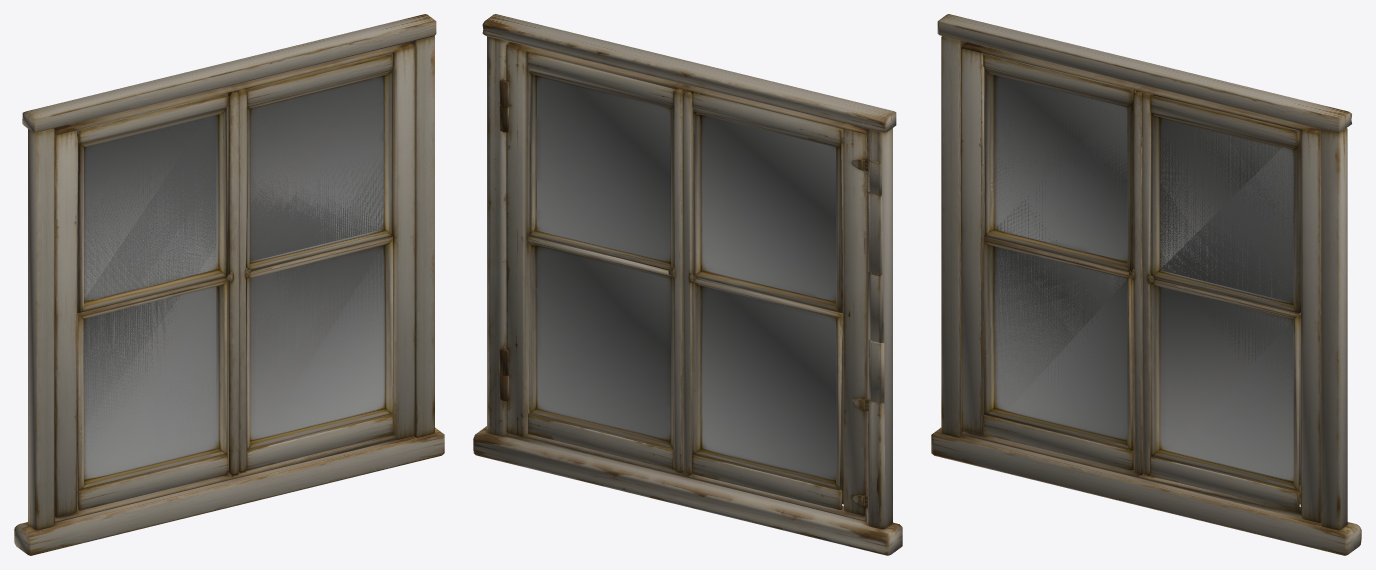
The model's file is architecture-window-four-pane.glb.
The picture shows the model from 3 angles, left to right: view 1: azimuth 30°, elevation 25°; view 2: azimuth 150°, elevation 25°; view 3: azimuth 330°, elevation 25°; orthographic projection.
Visible parts, largest first — view 1: tripo_node_a77161bf-bf8a-42e8-8aee-4de7f6006204; view 2: tripo_node_a77161bf-bf8a-42e8-8aee-4de7f6006204; view 3: tripo_node_a77161bf-bf8a-42e8-8aee-4de7f6006204.
Part boxes in pixels (x1,y1,x2,y2): tripo_node_a77161bf-bf8a-42e8-8aee-4de7f6006204: (14, 14, 444, 555); tripo_node_a77161bf-bf8a-42e8-8aee-4de7f6006204: (473, 14, 902, 555); tripo_node_a77161bf-bf8a-42e8-8aee-4de7f6006204: (931, 14, 1361, 555).
Size of the model in its own units: 1.2 by 1.2 by 0.08.
Materials: 1 (1 with a texture image).
